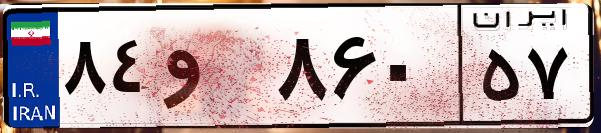0: (385, 28, 445, 110)
4: (110, 28, 158, 98)
5: (475, 38, 525, 113)
6: (330, 28, 385, 110)
7: (525, 38, 570, 115)
8: (270, 28, 330, 110), (57, 26, 110, 100)
و: (158, 20, 270, 120)
